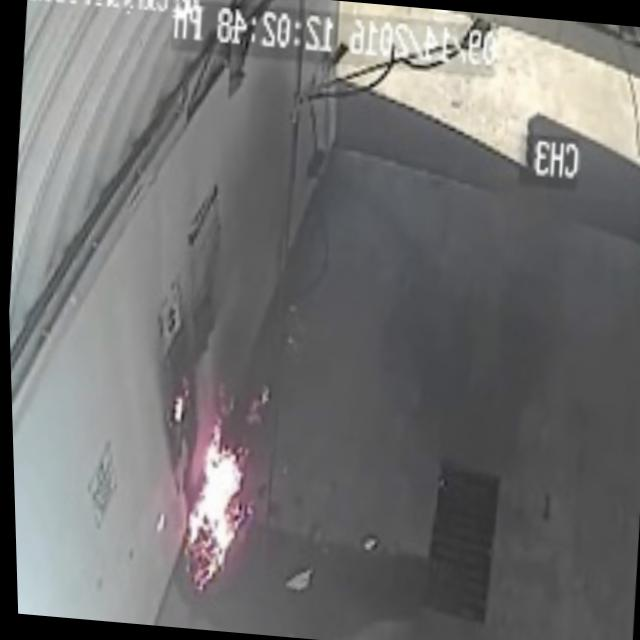fire: (181, 448, 259, 570)
